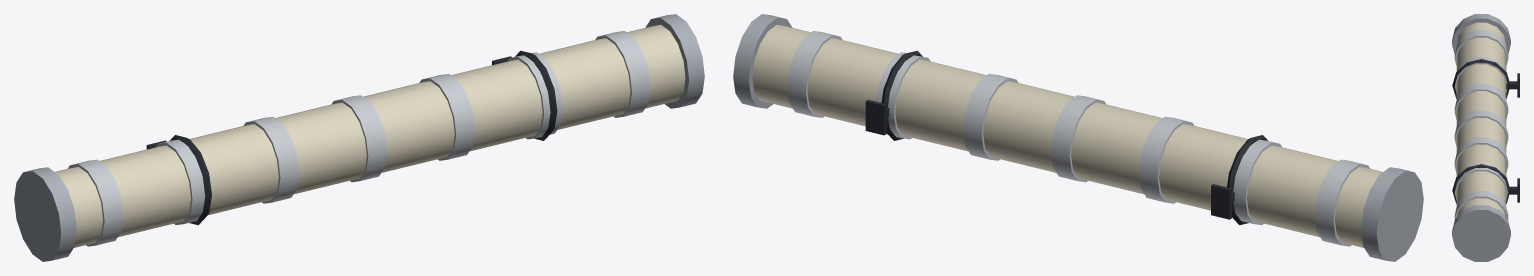
File: pipe_insulated_wrapped.glb
The picture shows the model from 3 angles, left to right: view 1: azimuth 30°, elevation 25°; view 2: azimuth 150°, elevation 25°; view 3: azimuth 270°, elevation 25°; orthographic projection. The views are drawn at different scales.
Visible parts, largest first — view 1: pipe_insulated_wrapped; view 2: pipe_insulated_wrapped; view 3: pipe_insulated_wrapped.
Part boxes in pixels (x1,y1,x2,y2): pipe_insulated_wrapped: (14,14,704,261); pipe_insulated_wrapped: (733,14,1423,261); pipe_insulated_wrapped: (1452,14,1519,261).
Size of the model in its own units: 2.05 by 0.258 by 0.3.
